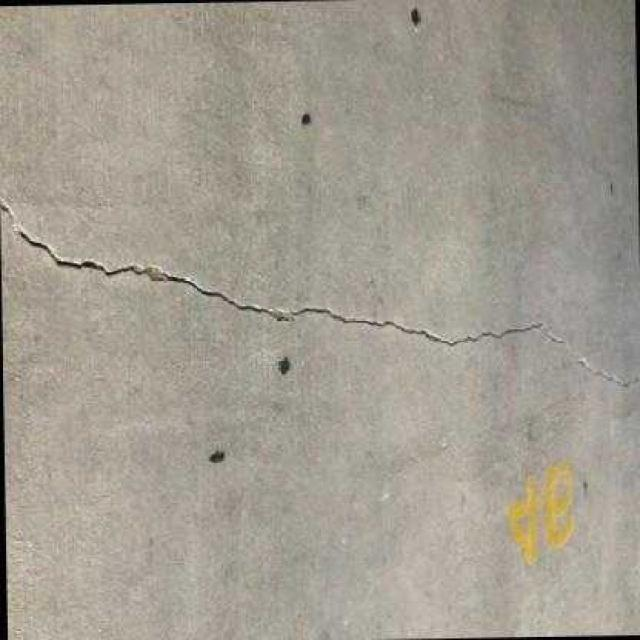D00: (6, 225, 628, 390)
